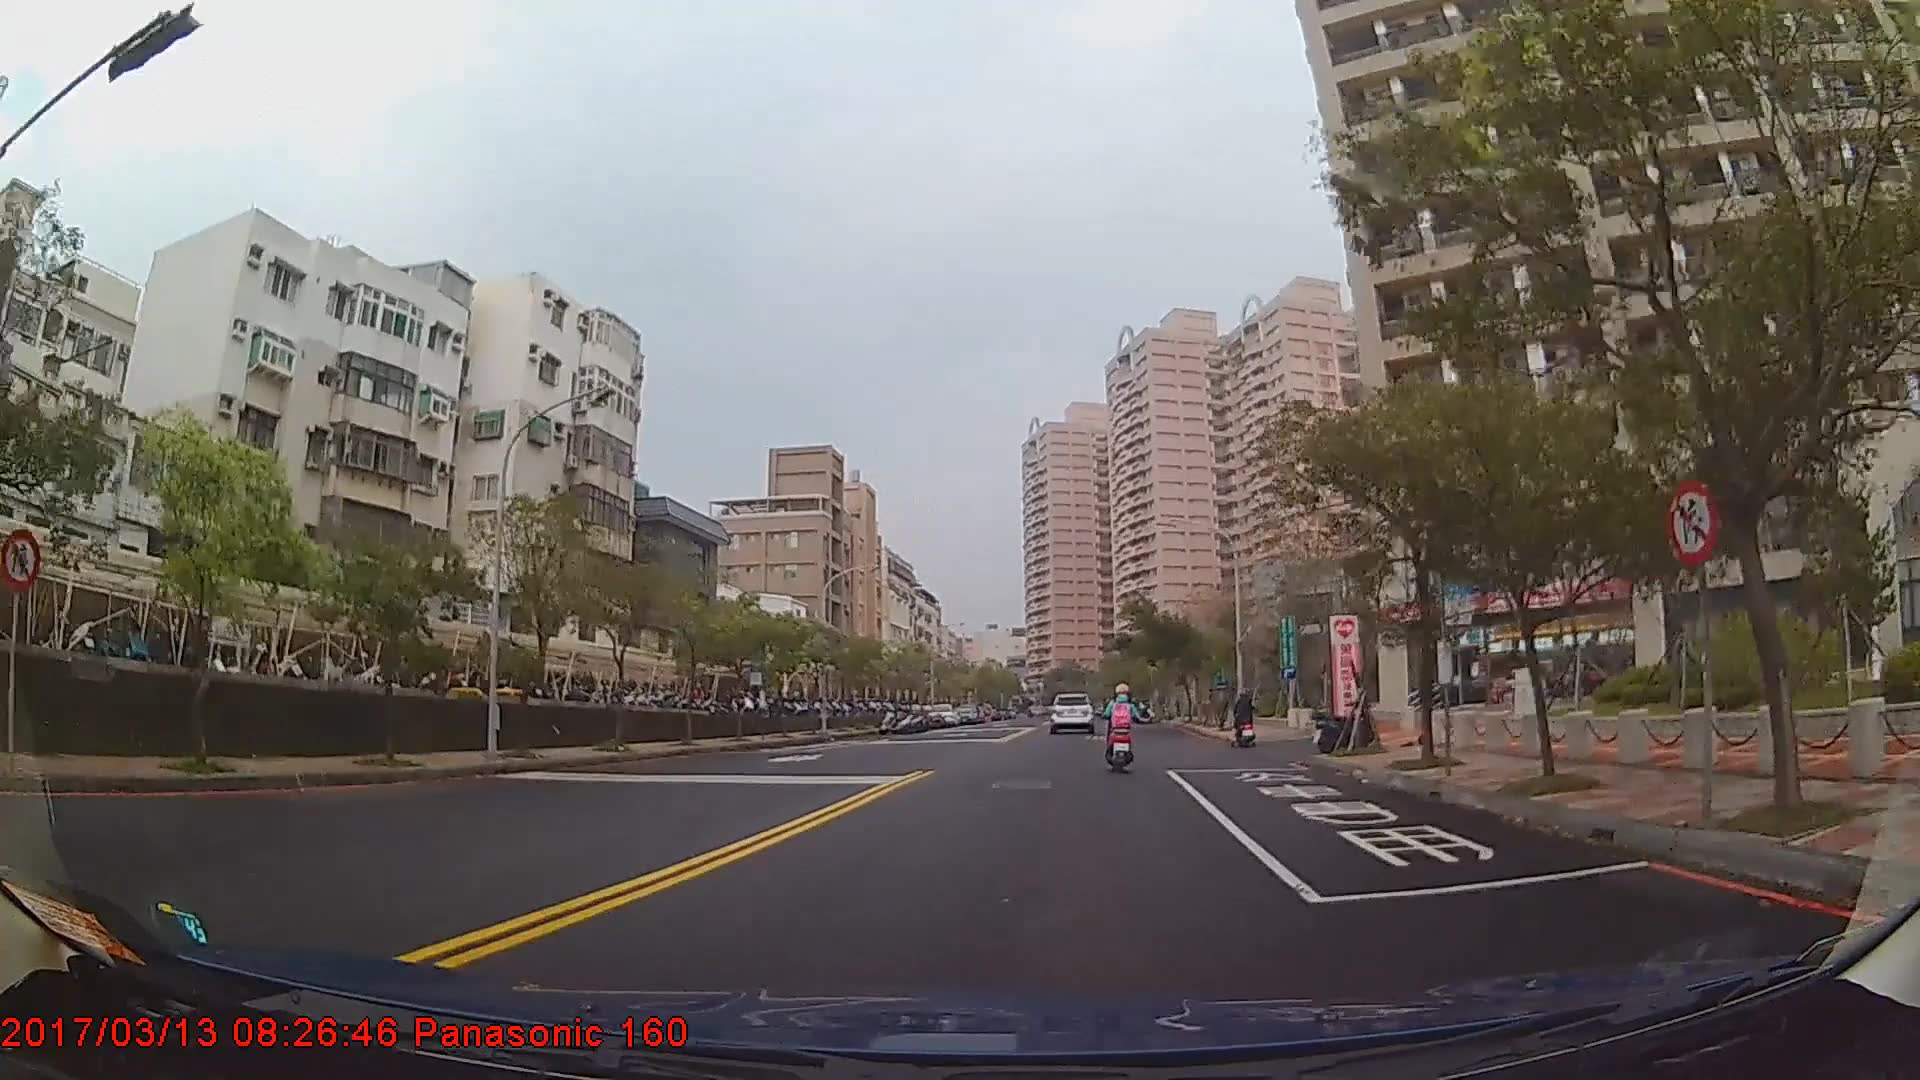rider: (1103, 678, 1147, 762), (1233, 692, 1257, 747)
vehicle: (1047, 691, 1095, 734)
